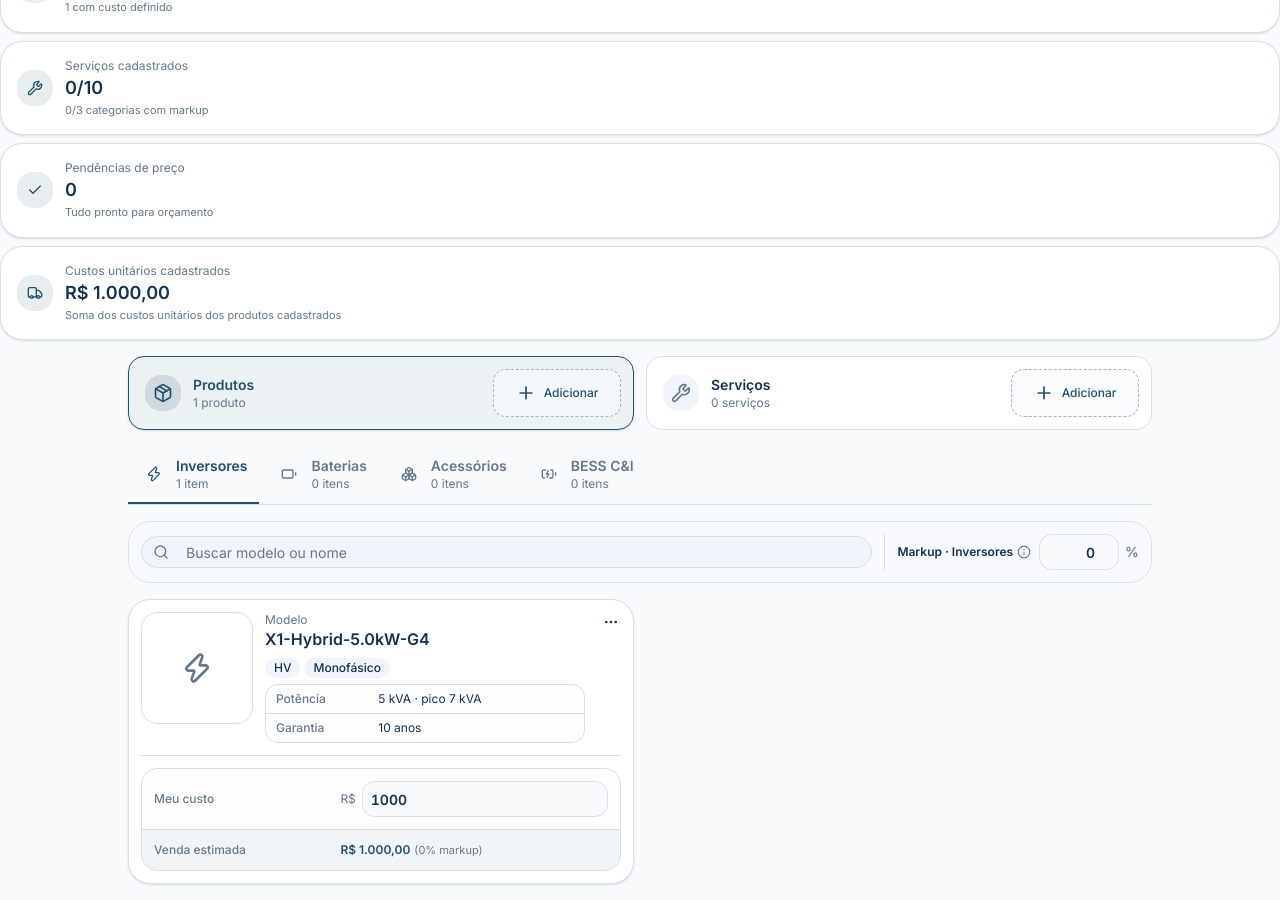
MyStockTab: editing price › surfaces an error instead of silently discarding a failed inline price edit
(page scrolled)
Replace the text in the number field named "Meu custo para X1-Hybrid-5.0kW-G4" with "1500". click: (485, 799)
box: [362,781,608,817]
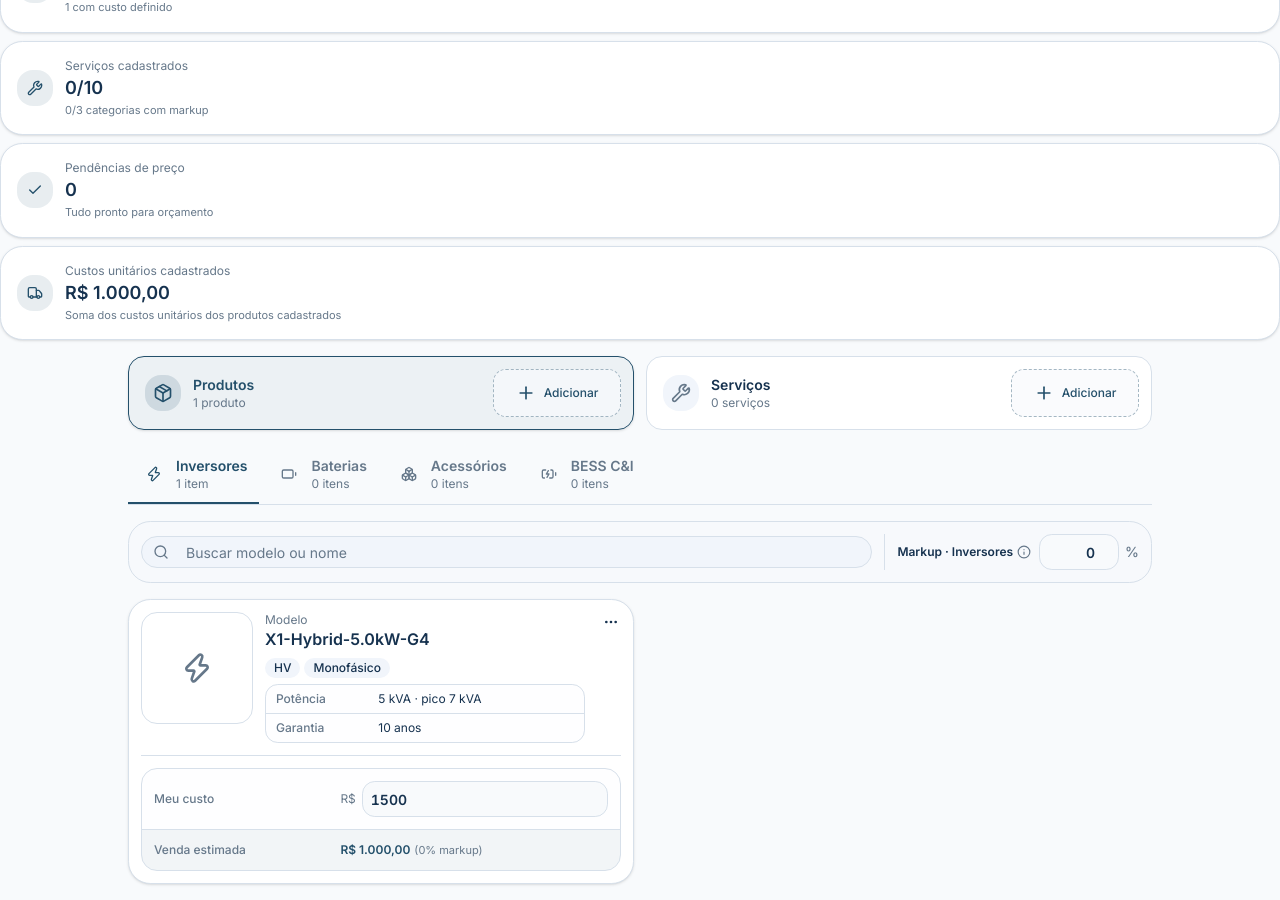
Leave the number field named "Meu custo para X1-Hybrid-5.0kW-G4", box [362,781,608,817]
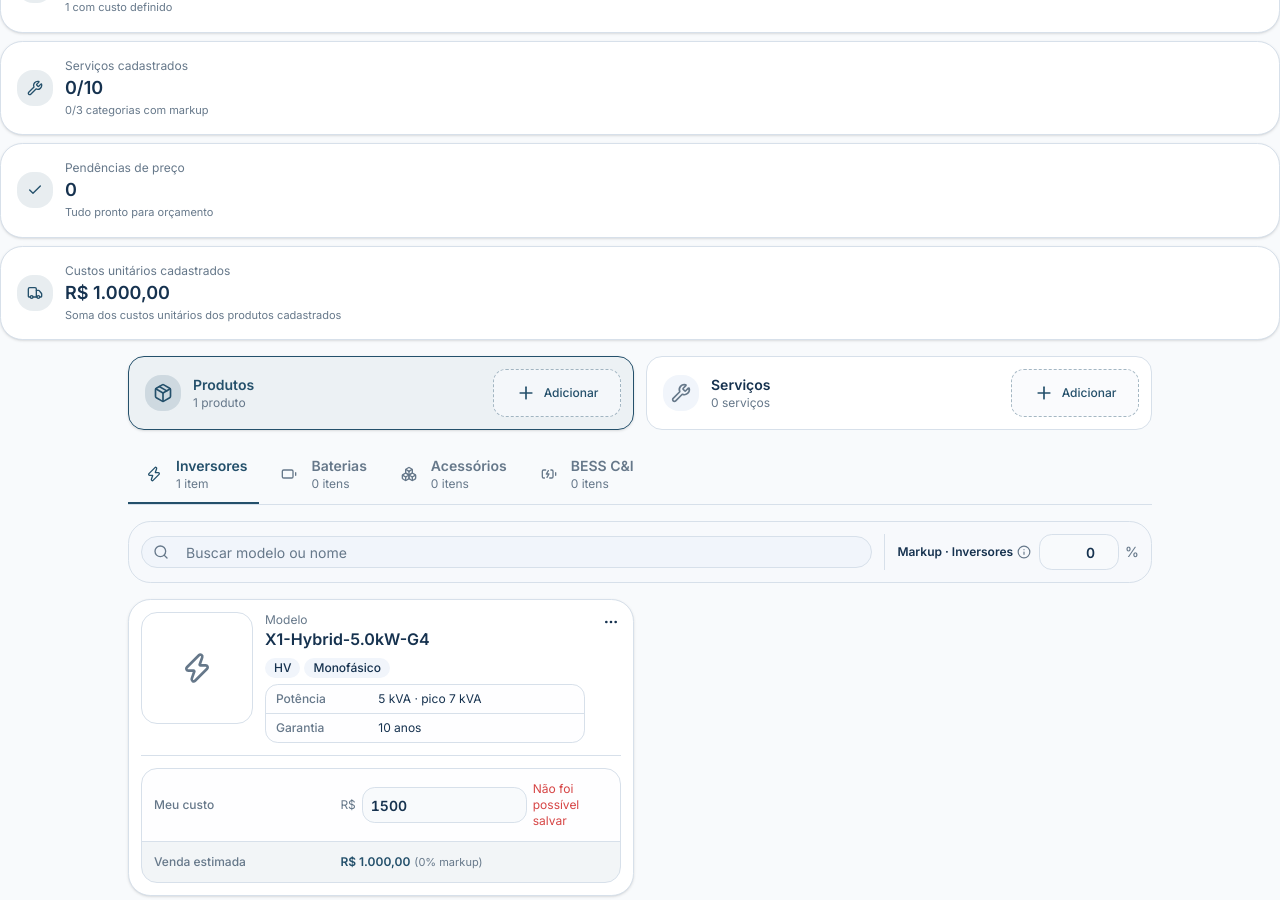
expect the text "Não foi possível salvar" is shown: met, box [533,781,579,828]
